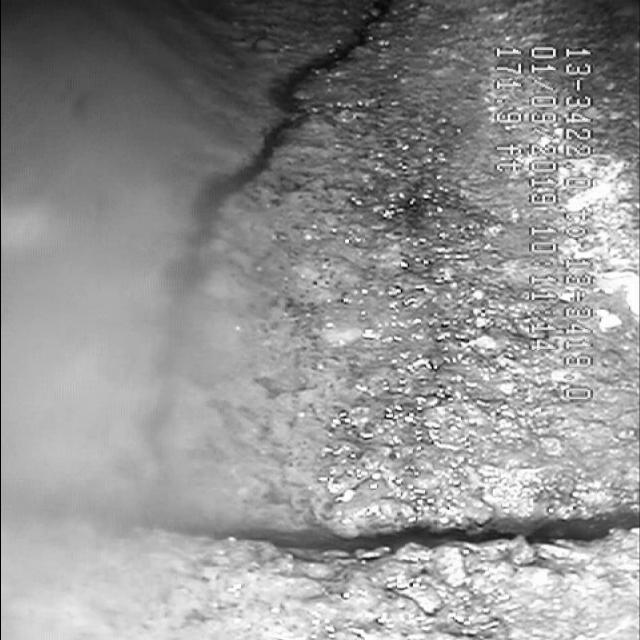Fracture: (79, 62, 396, 438)
